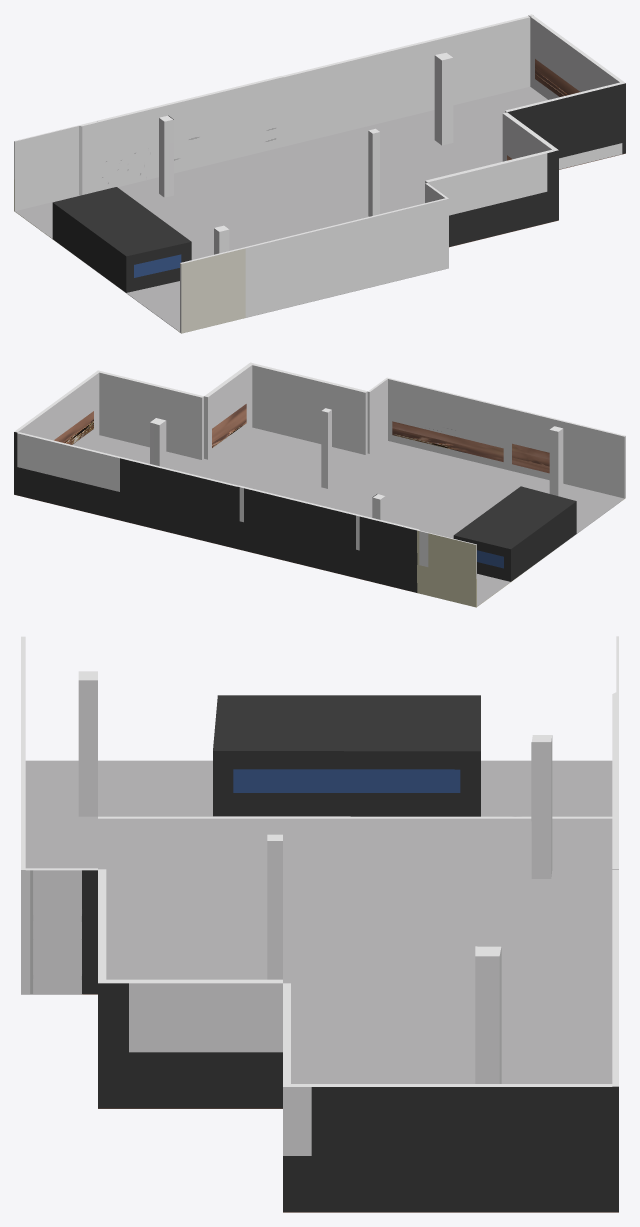
The model's file is floor_plan.fbx.
3 views of the same model, one above another, from view 1: azimuth 30°, elevation 25°; view 2: azimuth 150°, elevation 25°; view 3: azimuth 270°, elevation 25° (orthographic). The views are drawn at different scales.
Visible parts, largest first — view 1: base; view 2: base; view 3: base.
Part boxes in pixels (x1=…): base: x1=14, y1=14, x2=625, y2=333; base: x1=14, y1=362, x2=625, y2=607; base: x1=21, y1=636, x2=618, y2=1212.
Bounding box in the file's own units: 60609 × 9614 × 33944.
